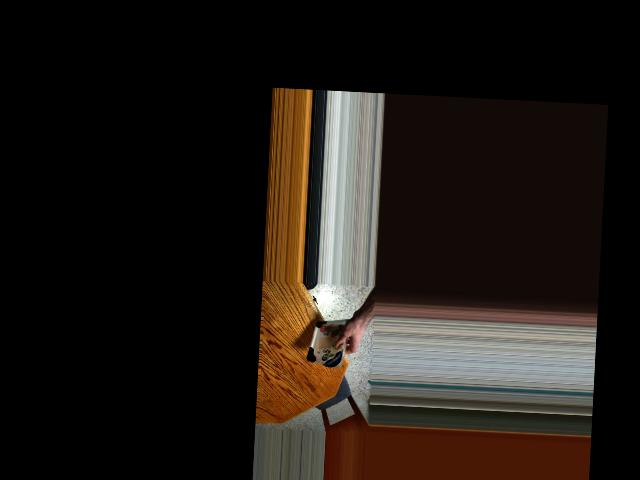cheese: (309, 309, 351, 370)
